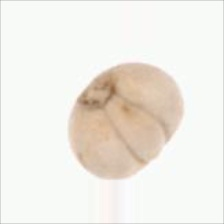L5: (104, 92, 172, 166), (75, 71, 121, 115)
L6: (65, 60, 188, 182)
